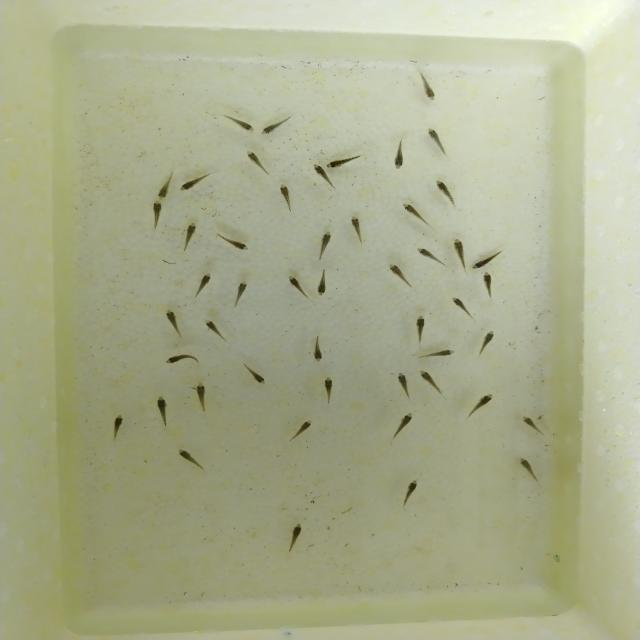fingerling: (462, 390, 500, 419), (396, 474, 428, 508), (397, 202, 434, 231), (512, 450, 544, 483), (281, 518, 311, 552), (224, 279, 257, 309), (414, 66, 440, 104), (388, 409, 417, 443), (213, 230, 252, 255), (384, 260, 414, 292), (471, 328, 505, 356), (424, 120, 449, 158), (156, 306, 187, 336), (239, 146, 272, 174), (432, 176, 461, 206), (310, 230, 339, 260), (414, 367, 445, 395), (173, 446, 207, 471), (202, 316, 232, 344), (177, 220, 204, 251), (517, 412, 549, 438), (146, 199, 170, 233), (317, 373, 340, 408), (240, 361, 272, 386), (411, 244, 447, 266), (445, 292, 474, 319), (312, 265, 334, 300), (261, 114, 293, 138), (410, 310, 430, 348), (283, 273, 310, 301), (178, 172, 214, 192), (106, 411, 130, 441), (224, 114, 258, 135), (191, 380, 212, 414), (288, 417, 316, 442), (343, 211, 367, 240), (274, 181, 297, 211), (306, 333, 328, 364), (471, 249, 503, 270), (191, 270, 215, 298), (158, 351, 200, 367), (329, 151, 364, 170), (153, 394, 172, 429), (416, 347, 460, 362), (393, 368, 414, 399), (451, 234, 468, 272), (309, 160, 331, 188), (477, 271, 498, 300), (390, 142, 409, 172), (153, 173, 173, 199)
